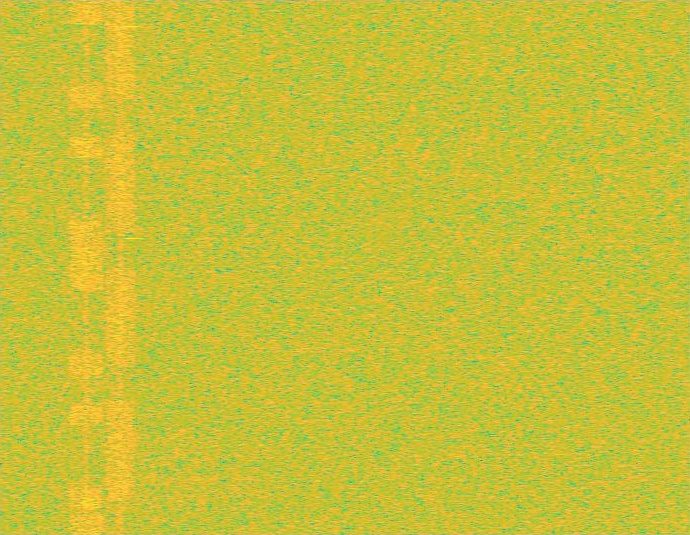5G: (104, 0, 138, 534)
DSSS: (117, 0, 125, 534), (84, 0, 89, 534)
LTE: (69, 0, 104, 534)
Radar: (124, 0, 138, 534)
